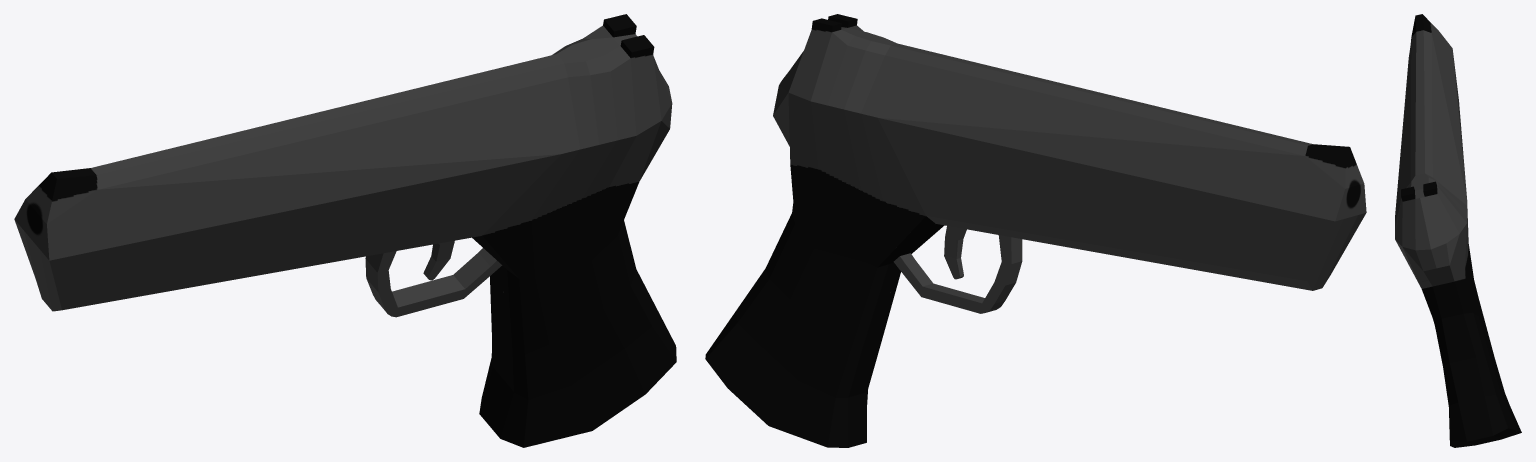
The model's file is gun-ver-6.7.glb.
The picture shows the model from 3 angles, left to right: view 1: azimuth 30°, elevation 25°; view 2: azimuth 150°, elevation 25°; view 3: azimuth 270°, elevation 25°; orthographic projection. The views are drawn at different scales.
Parts seen in each view (by area): view 1: Cube, Cube.002, Cube.001; view 2: Cube, Cube.002, Cube.001; view 3: Cube.
Part boxes in pixels (x1,y1,x2,y2): Cube: (14,14,676,447); Cube.002: (365,248,502,317); Cube.001: (423,240,454,280); Cube: (705,14,1366,447); Cube.002: (893,235,1022,313); Cube.001: (944,226,966,279); Cube: (1395,14,1521,447).
Bounding box in the file's own units: 17.95 × 10.97 × 4.67.
Materials: 2 (2 with a texture image).
